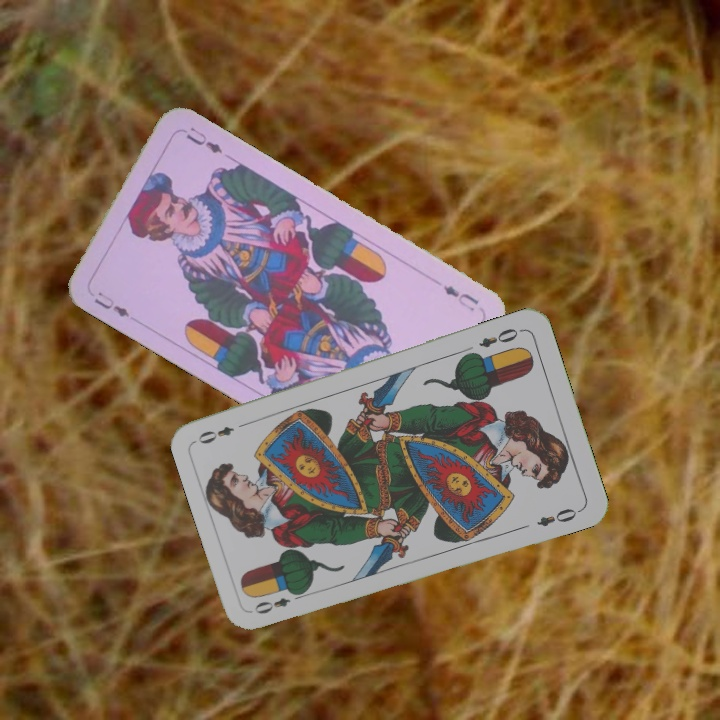EO: (250, 588, 307, 617), (475, 324, 526, 351)
EU: (439, 281, 482, 314), (89, 288, 132, 320)
